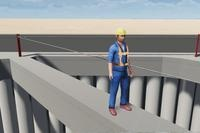safety belt: (112, 43, 130, 70)
